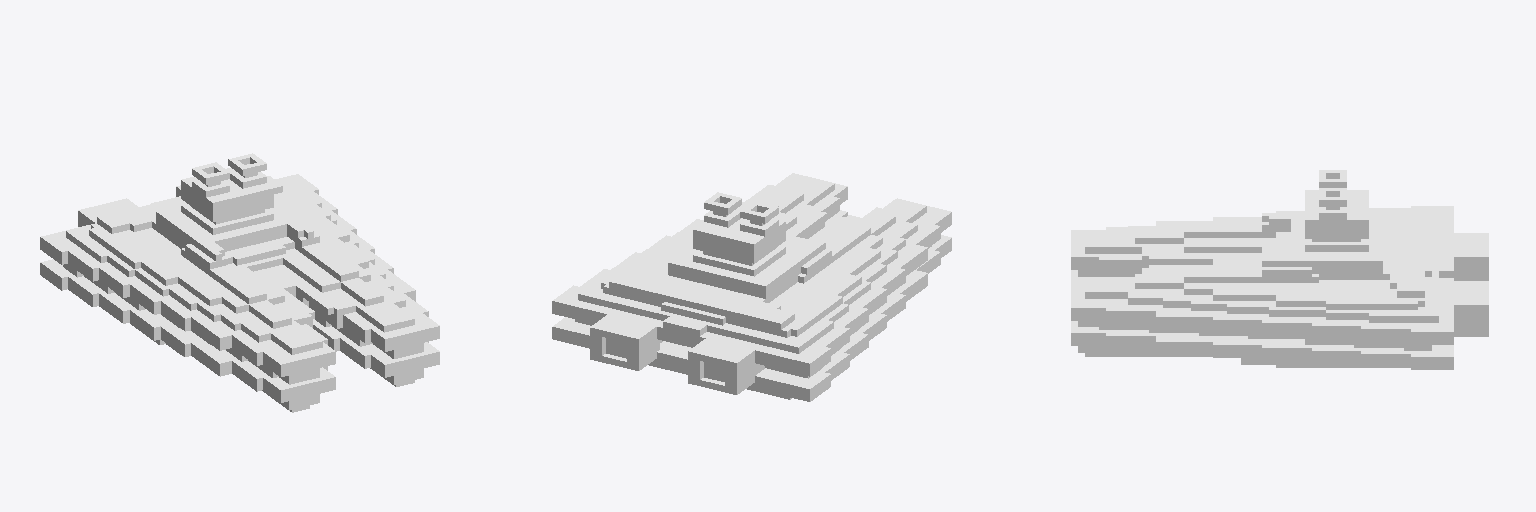
Rendered from Fighter2HPBlue.obj.
3 renders of one model, left to right at view 1: azimuth 30°, elevation 25°; view 2: azimuth 150°, elevation 25°; view 3: azimuth 270°, elevation 25°, orthographic.
Visible parts, largest first — view 1: Fighter2HPBlue; view 2: Fighter2HPBlue; view 3: Fighter2HPBlue.
Part boxes in pixels (bbox=[...]): Fighter2HPBlue: bbox=[40, 153, 439, 412]; Fighter2HPBlue: bbox=[552, 173, 951, 401]; Fighter2HPBlue: bbox=[1071, 170, 1488, 369].
Size of the model in its own units: 42 by 22 by 59.